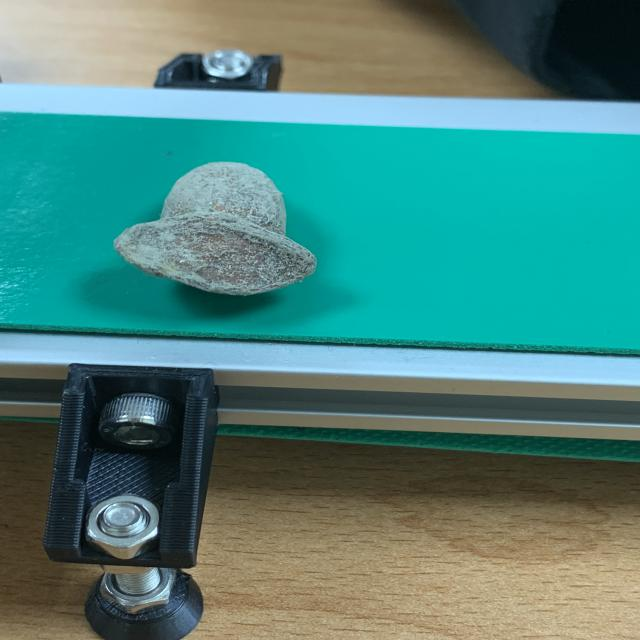Agglomerated_cocoabeans: (54, 125, 417, 358)
